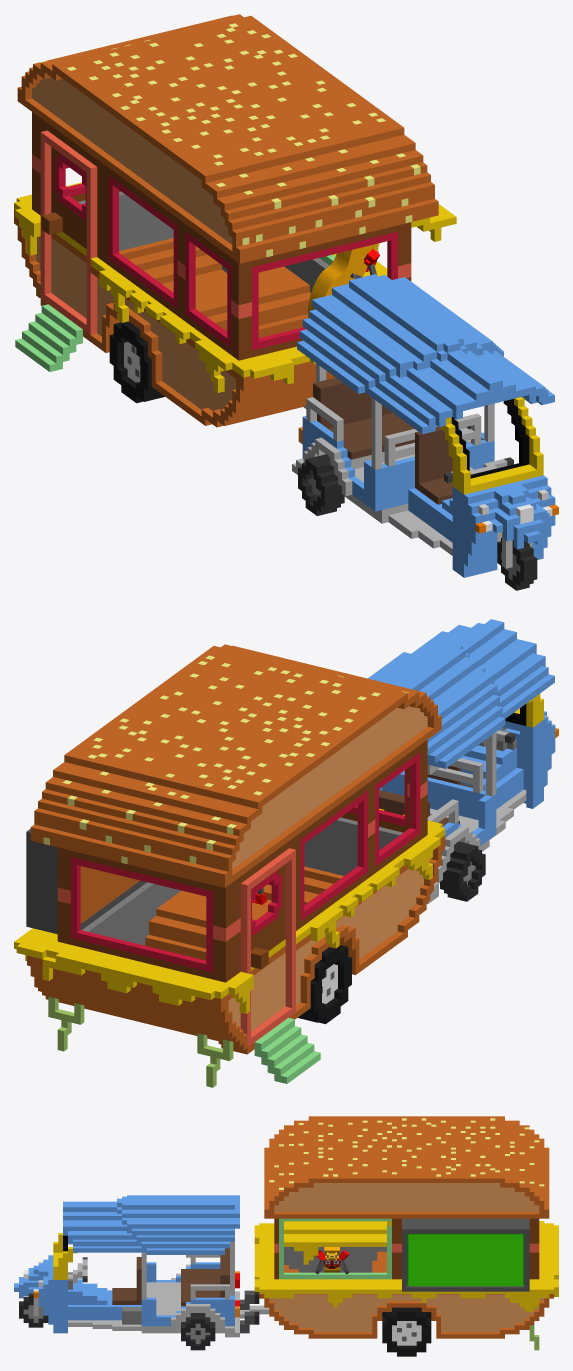
The model's file is tuktuk.fbx.
3 renders of one model, top to bottom at view 1: azimuth 30°, elevation 25°; view 2: azimuth 150°, elevation 25°; view 3: azimuth 270°, elevation 25°, orthographic. The views are drawn at different scales.
Parts seen in each view (by area): view 1: body, PotatoKun; view 2: body; view 3: body, kitchencar_face, PotatoKun.
Part boxes in pixels (bbox=[...]): body: bbox=[14, 14, 558, 590]; PotatoKun: bbox=[308, 244, 379, 317]; body: bbox=[14, 619, 558, 1087]; body: bbox=[14, 1116, 558, 1356]; kitchencar_face: bbox=[408, 1234, 523, 1286]; PotatoKun: bbox=[315, 1247, 349, 1274].
Size of the model in its own units: 2.4 by 2.4 by 6.65.
Materials: 5 (4 with a texture image).
